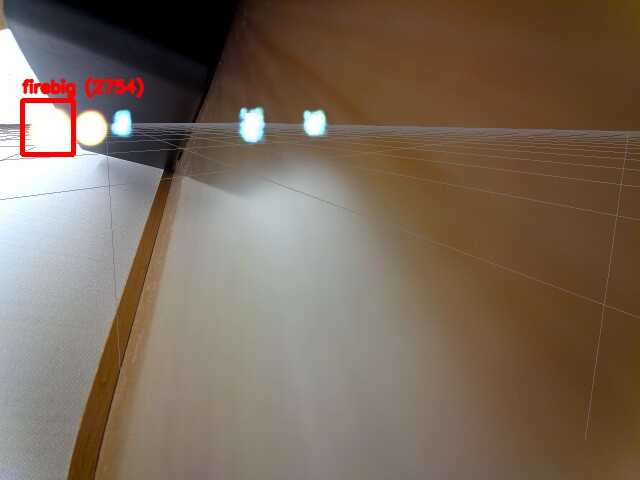firebig: (22, 100, 73, 154)
